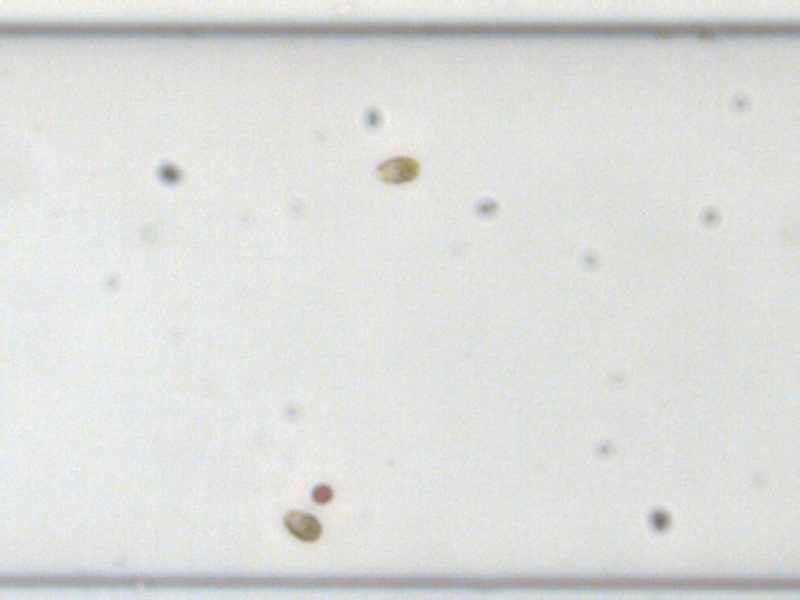Dunaliella salina: (372, 152, 422, 186), (279, 505, 323, 543)
Porphyridium: (309, 480, 333, 505)
